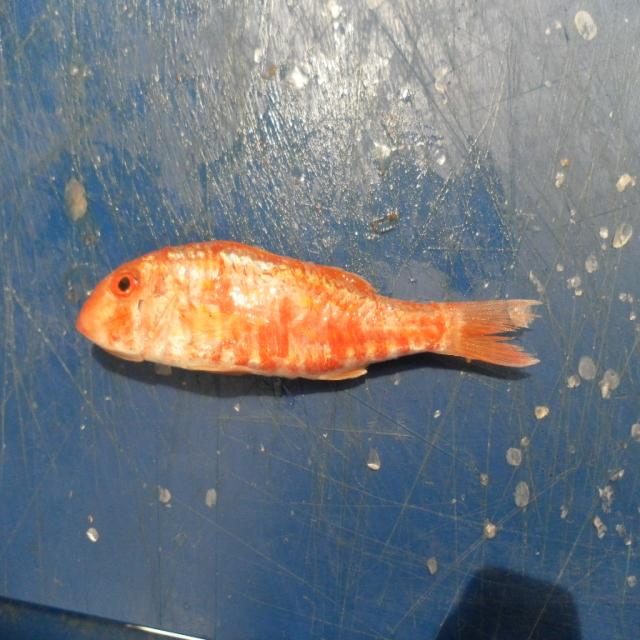Red-Mullet-kefal-: (74, 241, 544, 384)
